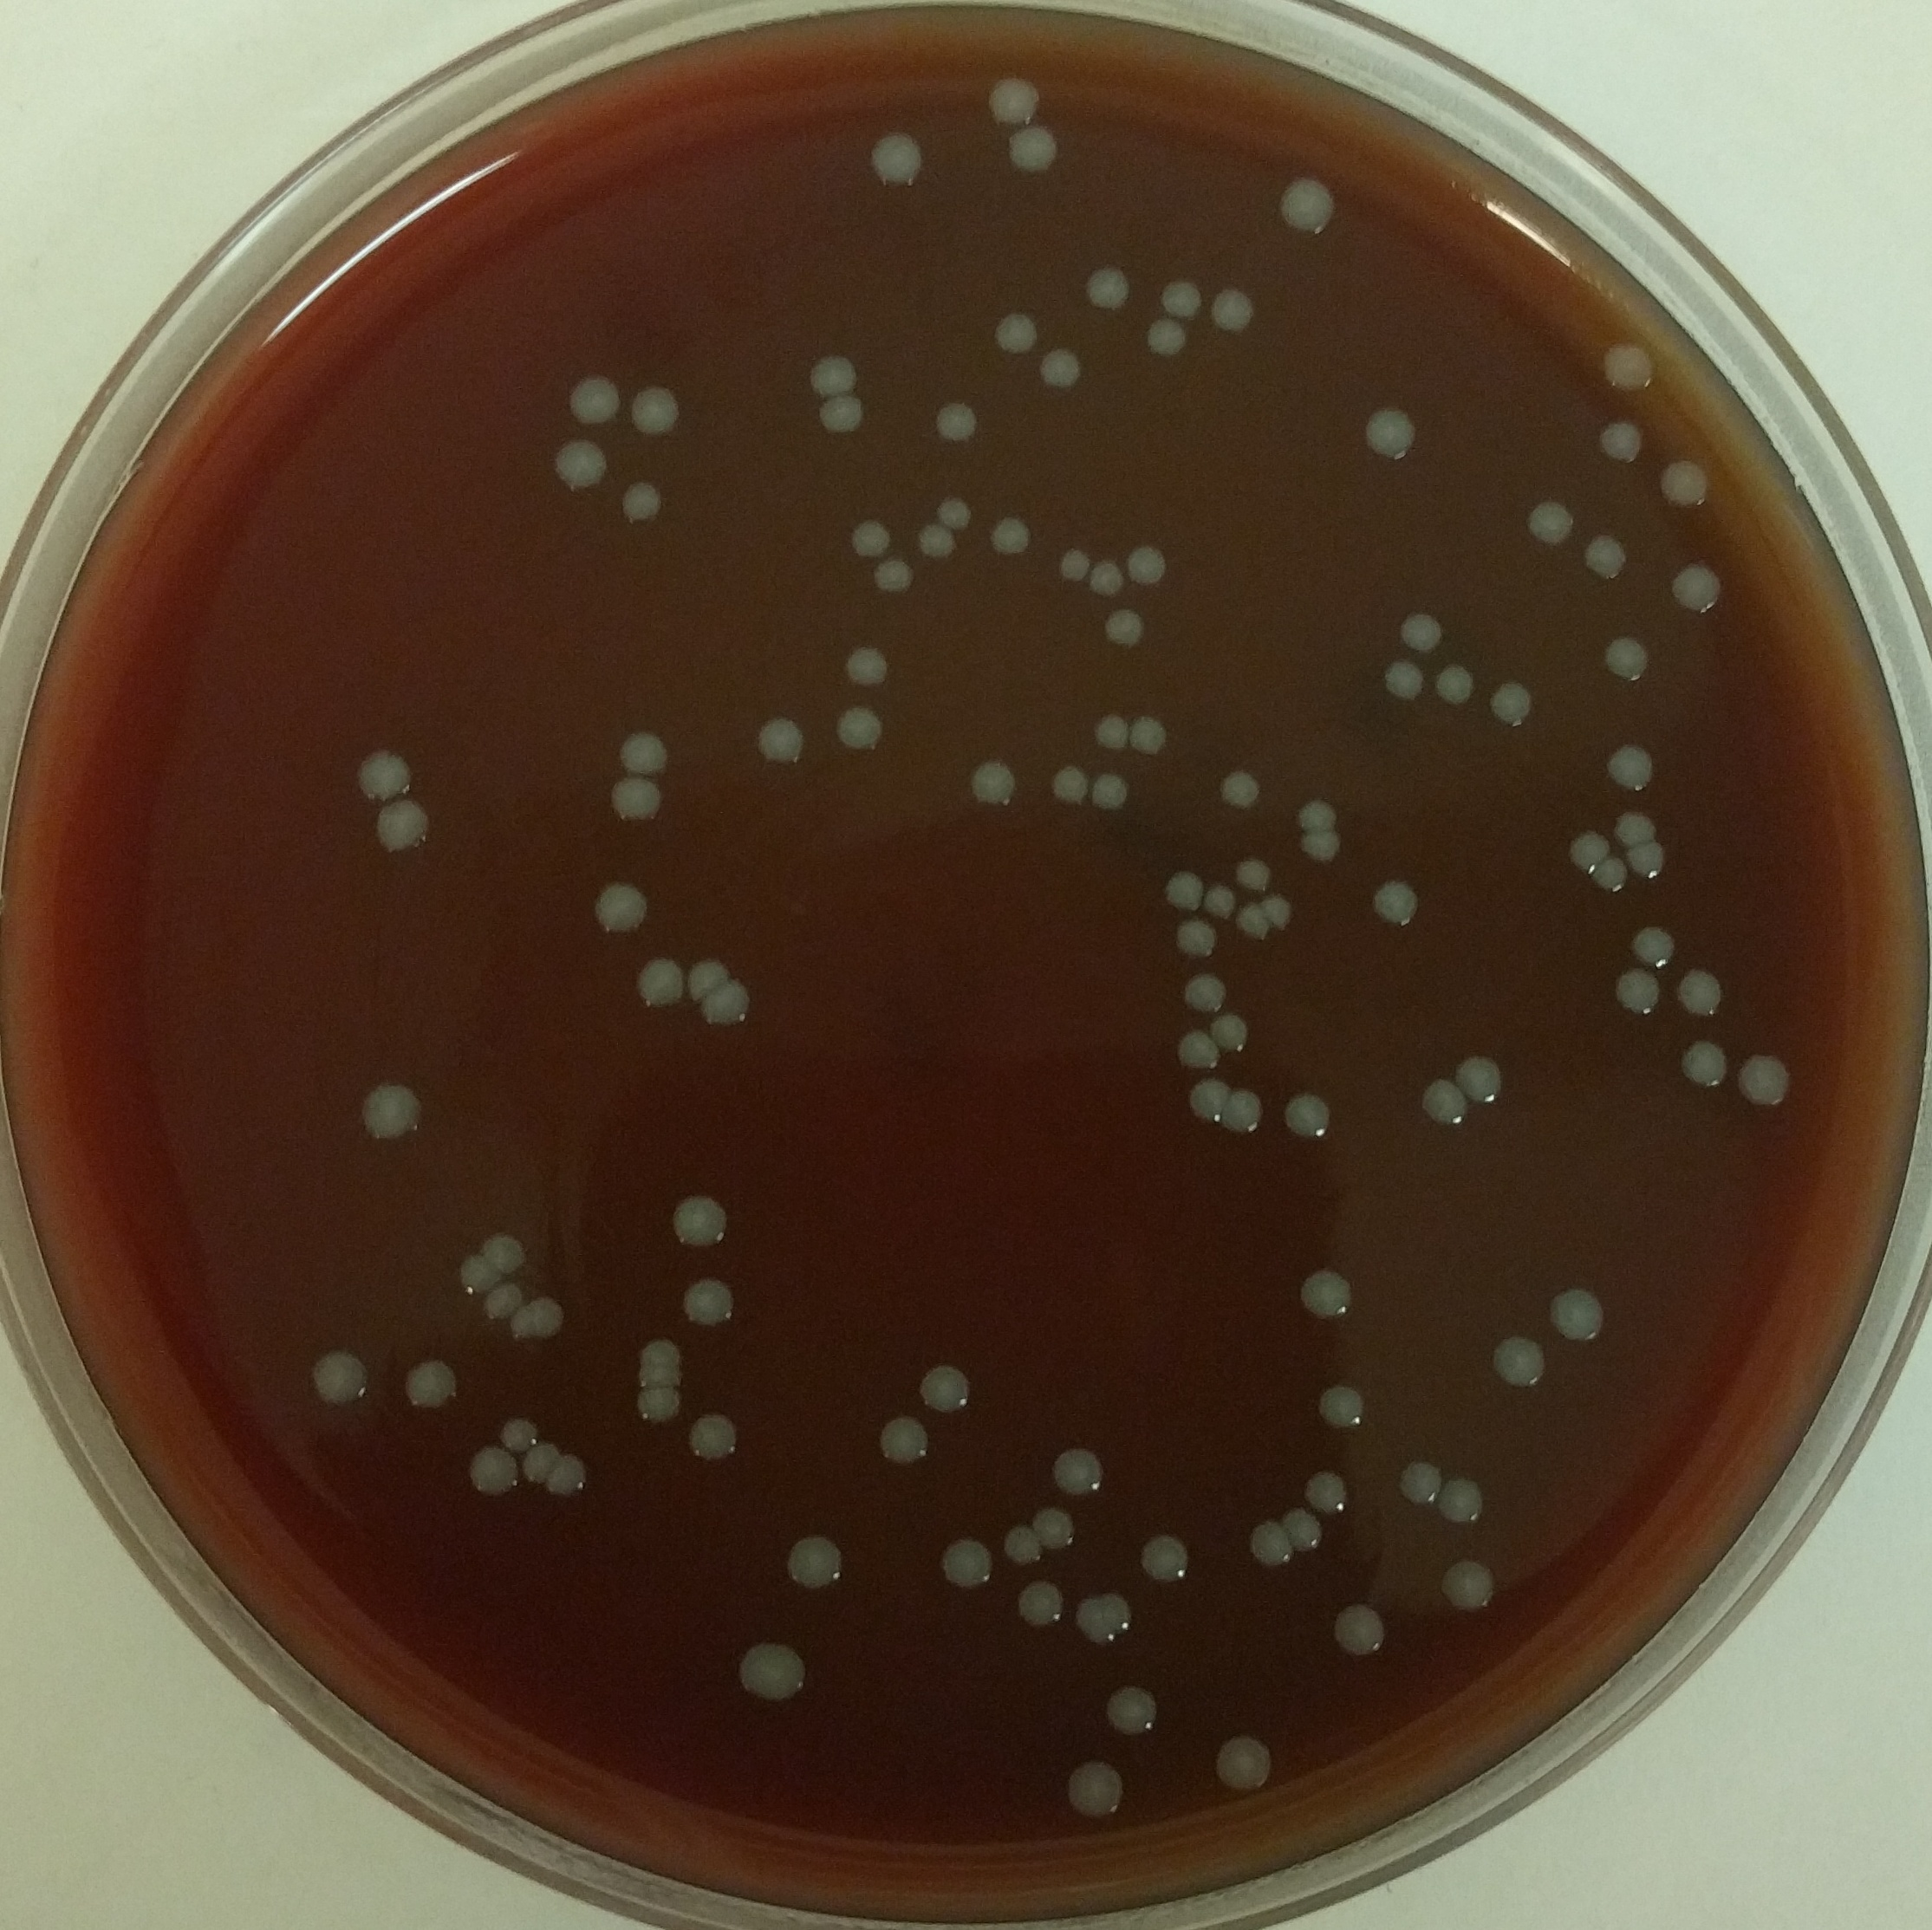sp14: (732, 1633, 815, 1709), (350, 1073, 433, 1145), (863, 120, 944, 193), (1062, 1746, 1135, 1820), (1593, 331, 1665, 401), (1273, 163, 1343, 235), (368, 788, 438, 859), (1662, 550, 1732, 620), (1211, 1727, 1283, 1794), (1538, 1280, 1612, 1343), (1350, 405, 1426, 467), (974, 64, 1052, 124), (665, 1189, 734, 1257), (1068, 1587, 1140, 1651), (394, 1350, 467, 1414), (749, 709, 817, 776), (956, 748, 1022, 817), (1593, 627, 1662, 693), (585, 873, 656, 937), (544, 433, 617, 495), (822, 698, 894, 760), (1594, 735, 1669, 795), (1327, 1596, 1395, 1661), (924, 396, 995, 456), (1096, 1677, 1167, 1737), (610, 721, 675, 785), (1076, 256, 1142, 320), (1570, 520, 1633, 583), (1031, 336, 1094, 399), (1209, 281, 1274, 343), (1483, 1329, 1548, 1391), (1434, 1554, 1499, 1615), (675, 1273, 741, 1333), (778, 1529, 845, 1587), (679, 1407, 748, 1463), (620, 380, 686, 438), (631, 951, 689, 1016), (603, 772, 670, 829), (555, 369, 626, 422), (1004, 118, 1066, 179), (1046, 1440, 1108, 1501), (352, 744, 415, 802), (1135, 1527, 1195, 1587), (1674, 1029, 1734, 1089), (912, 1357, 976, 1414), (935, 1536, 999, 1592), (1730, 1046, 1794, 1103), (465, 1439, 521, 1502), (868, 1417, 935, 1470), (1391, 601, 1455, 656), (1653, 454, 1718, 507), (1084, 765, 1144, 822), (1453, 1048, 1508, 1110), (1292, 1265, 1356, 1318), (1587, 417, 1646, 474), (605, 474, 663, 530), (1363, 873, 1419, 931), (1409, 1076, 1467, 1133), (1013, 1573, 1069, 1631), (309, 1347, 366, 1405), (1483, 670, 1538, 730), (820, 387, 882, 440), (1377, 649, 1426, 714), (1419, 654, 1476, 710), (1151, 269, 1209, 323), (981, 304, 1039, 359), (1517, 493, 1575, 548), (1672, 960, 1727, 1016), (1312, 1379, 1366, 1435), (1167, 914, 1227, 965), (1612, 961, 1662, 1023), (797, 345, 861, 392), (1437, 1472, 1492, 1527), (1243, 1515, 1299, 1568), (836, 638, 896, 688), (1621, 919, 1676, 972), (863, 548, 928, 592), (1211, 760, 1269, 809), (1395, 1453, 1444, 1511), (481, 1220, 534, 1273), (1161, 1025, 1218, 1075), (916, 507, 962, 567), (1121, 539, 1172, 592), (1577, 845, 1628, 898), (1029, 1499, 1082, 1550), (1135, 315, 1191, 362), (1096, 601, 1156, 645), (843, 513, 898, 560), (1121, 705, 1168, 760), (1000, 1518, 1050, 1569), (1283, 1501, 1331, 1554), (631, 1379, 682, 1426), (1280, 1090, 1331, 1138), (1296, 1467, 1349, 1513), (1050, 756, 1094, 811), (709, 983, 757, 1032), (1085, 709, 1135, 756), (1213, 1013, 1259, 1064), (481, 1278, 530, 1324), (456, 1246, 507, 1290), (629, 1333, 686, 1372), (498, 1409, 546, 1455), (555, 1458, 599, 1508), (1561, 827, 1610, 871), (1296, 834, 1345, 878), (1160, 866, 1211, 908), (1609, 804, 1660, 847), (990, 518, 1036, 564), (1624, 832, 1670, 878), (1287, 792, 1340, 831), (1092, 551, 1137, 597), (1177, 967, 1225, 1009), (628, 1361, 688, 1394), (1055, 534, 1091, 589), (529, 1294, 567, 1343), (933, 486, 983, 525), (1259, 891, 1303, 933), (1183, 1076, 1225, 1121), (689, 954, 730, 1000), (521, 1435, 560, 1483), (1236, 847, 1274, 893), (1221, 1087, 1259, 1135), (1232, 901, 1271, 946), (1207, 882, 1241, 917), (506, 1308, 536, 1347)
